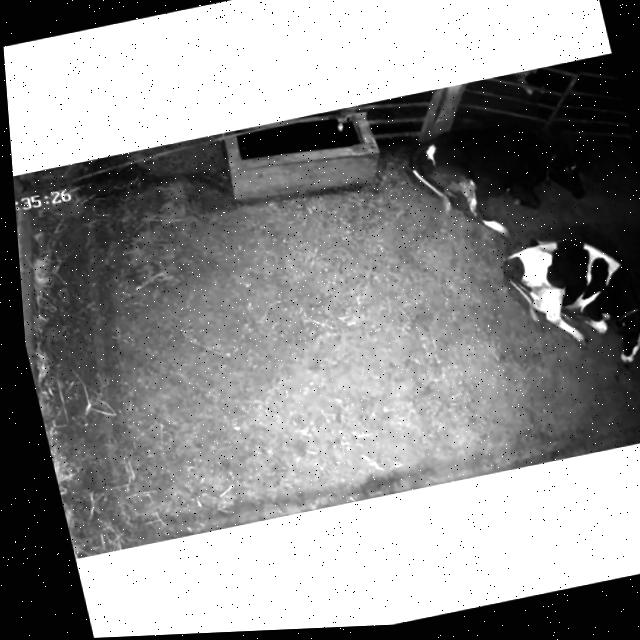lay: (388, 91, 617, 251), (472, 208, 640, 400)
